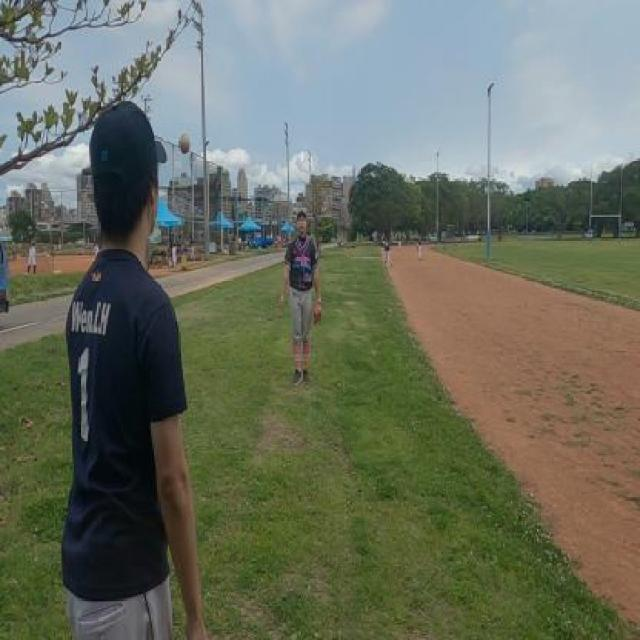baseball: (178, 132, 191, 156)
